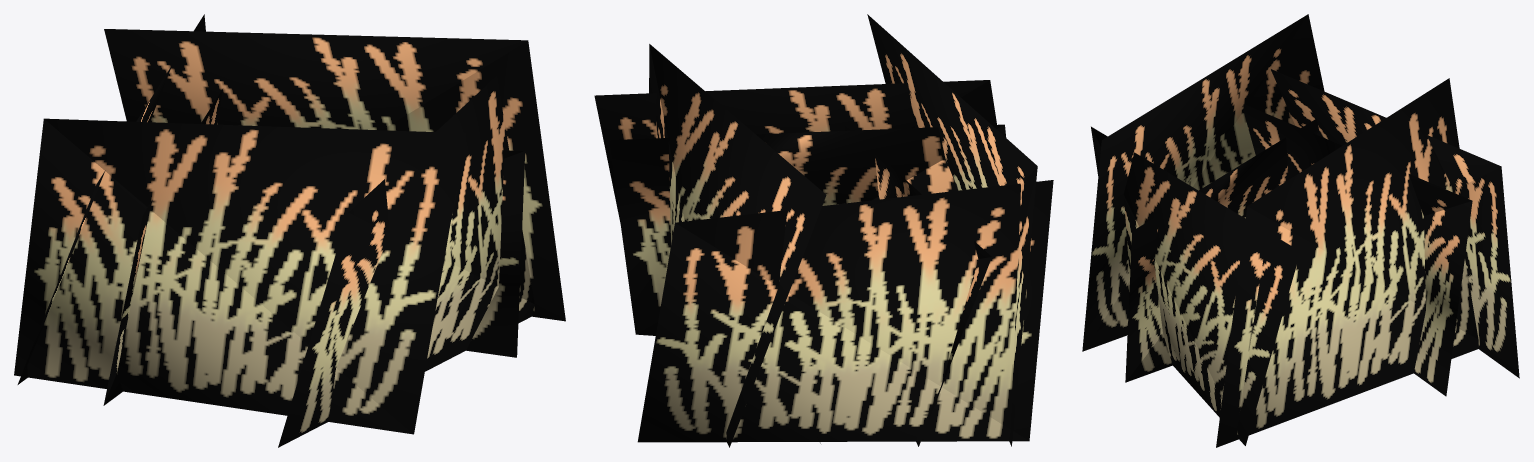
File: grass_summer_b.glb
3 renders of one model, left to right at view 1: azimuth 30°, elevation 25°; view 2: azimuth 150°, elevation 25°; view 3: azimuth 270°, elevation 25°, orthographic. The views are drawn at different scales.
Parts seen in each view (by area): view 1: grass_summer_b; view 2: grass_summer_b; view 3: grass_summer_b.
Boxes of the visible parts, box(x1,y1,x2,y2) form: grass_summer_b: box(14, 14, 565, 447); grass_summer_b: box(594, 14, 1053, 447); grass_summer_b: box(1082, 14, 1519, 447).
Bounding box in the file's own units: 5.62 × 3.08 × 5.12.
Materials: 1 (1 with a texture image).
